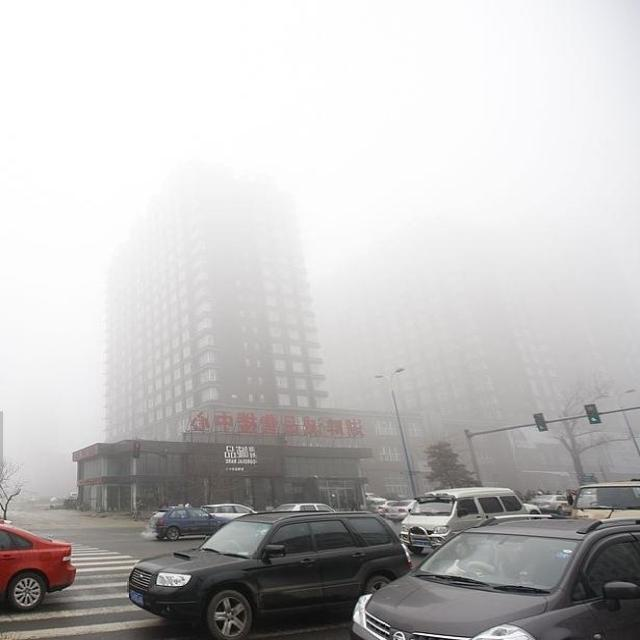Car: (122, 512, 414, 640), (353, 512, 639, 640), (0, 518, 77, 608), (146, 507, 232, 542), (202, 500, 256, 524), (530, 492, 570, 515), (386, 500, 416, 521), (271, 502, 334, 510)
Truck: (564, 480, 640, 521)
Van: (396, 484, 530, 554)
